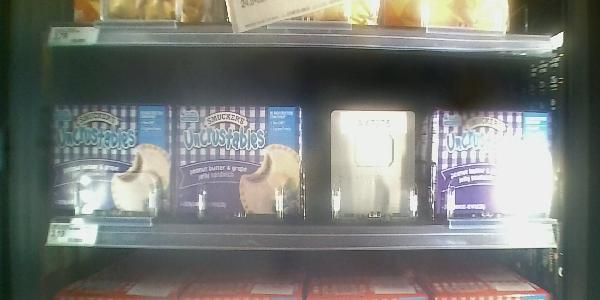icecream: (173, 104, 312, 225), (51, 103, 171, 221), (433, 109, 556, 219)
